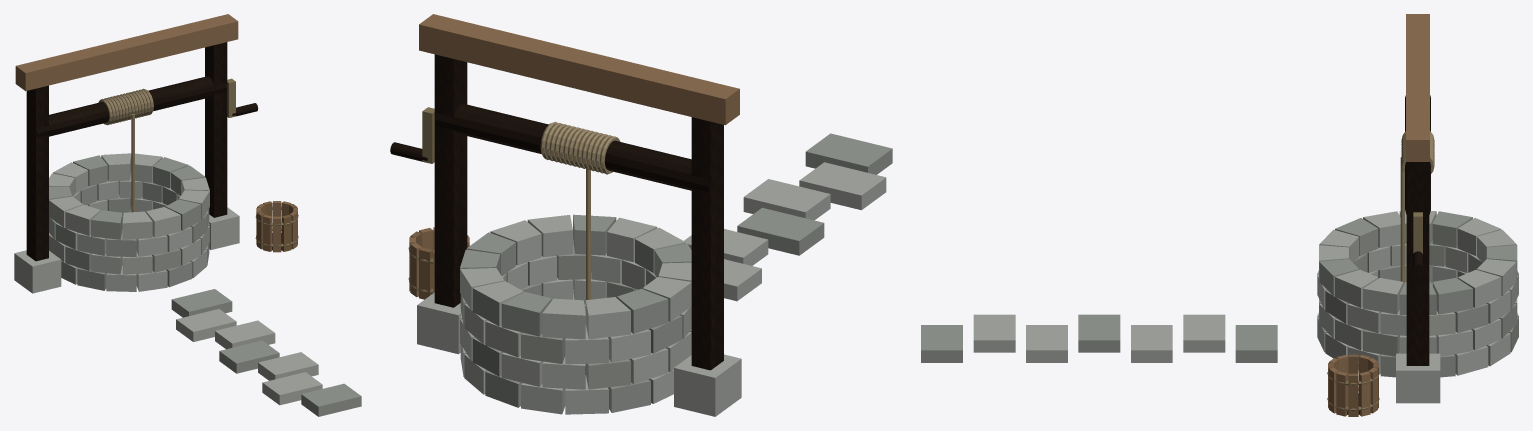
The model's file is story-well.glb.
3 views of the same model, side by side, from view 1: azimuth 30°, elevation 25°; view 2: azimuth 150°, elevation 25°; view 3: azimuth 270°, elevation 25° (orthographic). The views are drawn at different scales.
Visible parts, largest first — view 1: Well stone ring block.001, Well stone ring block, Well timber upright, Well head beam, Wound rope, Bucket stave, Crank arm; view 2: Well stone ring block.001, Well timber upright, Well stone ring block, Well head beam, Wound rope, Crank arm, Bucket stave; view 3: Well stone ring block.001, Well stone ring block, Well head beam, Well timber upright, Wound rope, Bucket stave, Crank arm.
Boxes of the visible parts, x1,y1,x2,y2 form: Well stone ring block.001: (14, 153, 322, 405); Well stone ring block: (49, 155, 361, 416); Well timber upright: (26, 42, 281, 261); Well head beam: (15, 14, 297, 252); Wound rope: (98, 88, 153, 212); Bucket stave: (257, 201, 297, 251); Crank arm: (227, 78, 298, 247); Well stone ring block.001: (417, 162, 886, 416); Well timber upright: (390, 54, 723, 370); Well stone ring block: (460, 133, 892, 412); Well head beam: (409, 14, 739, 297); Wound rope: (540, 121, 620, 300); Crank arm: (408, 107, 434, 293); Bucket stave: (410, 231, 468, 299); Well stone ring block.001: (973, 211, 1518, 403); Well stone ring block: (921, 211, 1518, 377); Well head beam: (1329, 14, 1429, 416); Well timber upright: (1347, 95, 1430, 414); Wound rope: (1400, 131, 1434, 284); Bucket stave: (1328, 354, 1378, 416); Crank arm: (1327, 212, 1422, 410).
Size of the model in its own units: 4.33 by 3.66 by 7.41.
8 materials, 1 textured.
